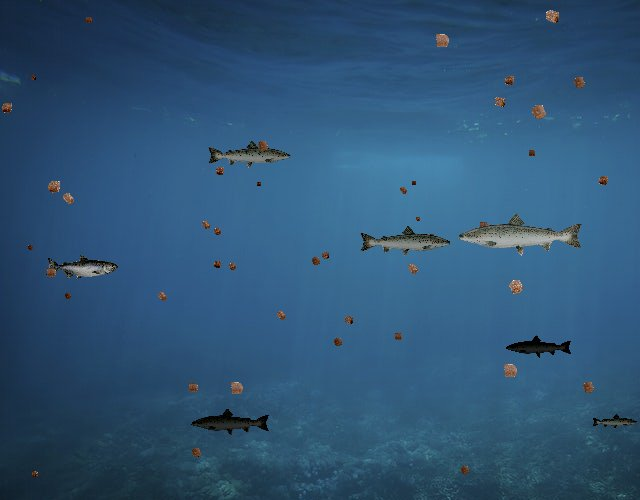Fish: (456, 211, 585, 257), (359, 225, 453, 259), (206, 139, 292, 170), (190, 408, 271, 437), (46, 254, 119, 281), (506, 335, 574, 359), (592, 414, 639, 431)
Pellet: (56, 186, 81, 211), (576, 376, 600, 400), (455, 461, 474, 480), (28, 467, 42, 481), (27, 71, 39, 83)
